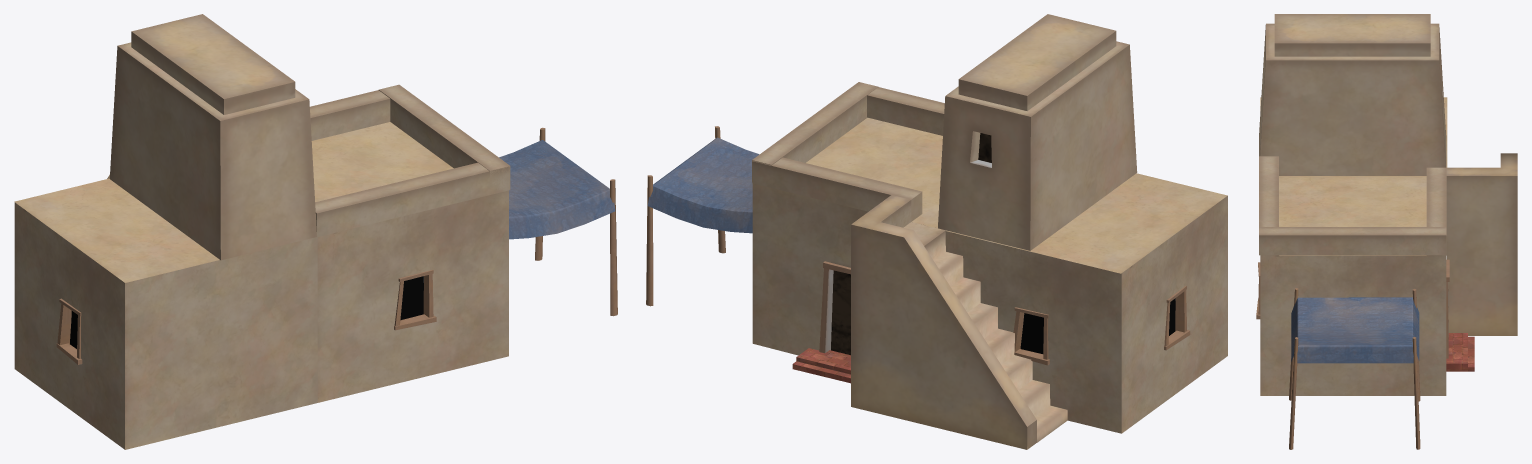
Rendered from SM_house_3.fbx.
3 views of the same model, side by side, from view 1: azimuth 30°, elevation 25°; view 2: azimuth 150°, elevation 25°; view 3: azimuth 270°, elevation 25° (orthographic). The views are drawn at different scales.
Parts seen in each view (by area): view 1: kit1_carpet5; view 2: kit1_carpet5; view 3: kit1_carpet5.
Part boxes in pixels (<box>): kit1_carpet5: <box>14,14,617,449</box>; kit1_carpet5: <box>646,14,1227,449</box>; kit1_carpet5: <box>1256,14,1517,449</box>.
Size of the model in its own units: 11.66 by 6.93 by 6.08.
